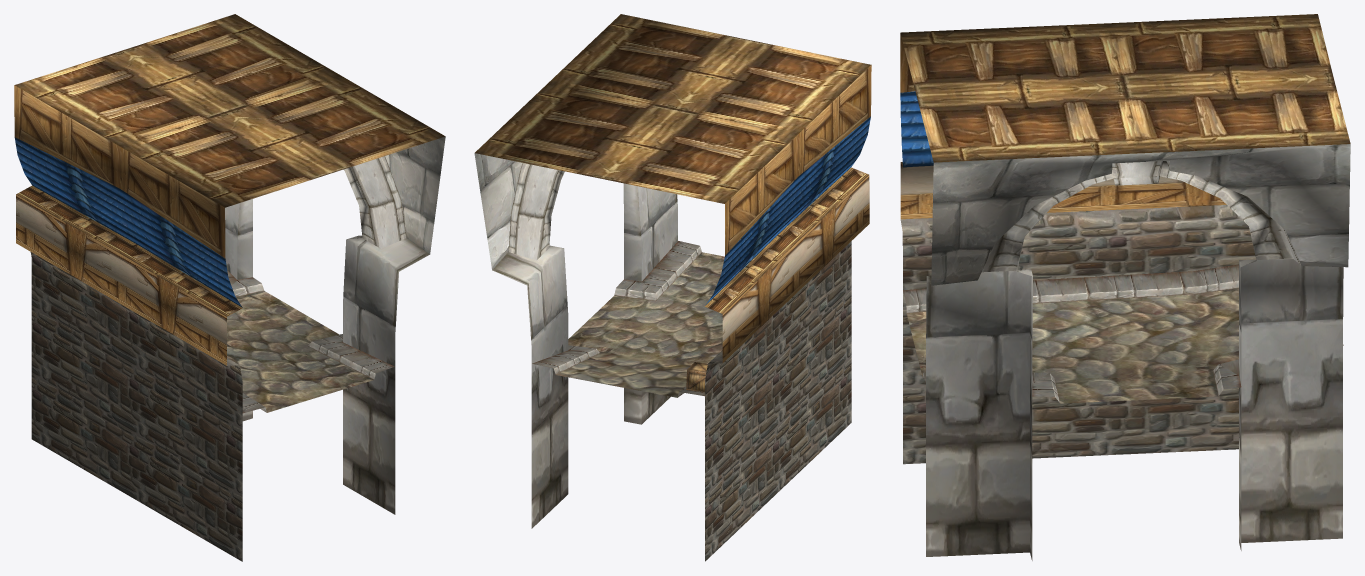
Rendered from stormwind_024.fbx.
3 renders of one model, left to right at view 1: azimuth 30°, elevation 25°; view 2: azimuth 150°, elevation 25°; view 3: azimuth 270°, elevation 25°, orthographic. The views are drawn at different scales.
Parts seen in each view (by area): view 1: stormwind_024_10, stormwind_024_3, stormwind_024_1, stormwind_024_11, stormwind_024_46, stormwind_024_8, stormwind_024_4, stormwind_024_5, stormwind_024_12; view 2: stormwind_024_10, stormwind_024_3, stormwind_024_11, stormwind_024_1, stormwind_024_46, stormwind_024_8, stormwind_024_5, stormwind_024_12, stormwind_024_4, stormwind_024_59; view 3: stormwind_024_11, stormwind_024_10, stormwind_024_3, stormwind_024_4, stormwind_024_46, stormwind_024_12, stormwind_024_5, stormwind_024_1, stormwind_024_8.
Part boxes in pixels (box(x1,y1,x2,y2)): stormwind_024_10: box(14, 14, 445, 316); stormwind_024_3: box(30, 252, 242, 561); stormwind_024_1: box(14, 85, 226, 365); stormwind_024_11: box(225, 199, 429, 514); stormwind_024_46: box(227, 291, 373, 412); stormwind_024_8: box(14, 137, 242, 307); stormwind_024_4: box(385, 136, 445, 254); stormwind_024_5: box(343, 156, 406, 248); stormwind_024_12: box(32, 270, 394, 413); stormwind_024_10: box(475, 14, 871, 313); stormwind_024_3: box(705, 241, 851, 561); stormwind_024_11: box(492, 183, 677, 528); stormwind_024_1: box(722, 65, 871, 362); stormwind_024_46: box(556, 252, 724, 397); stormwind_024_8: box(705, 116, 870, 305); stormwind_024_5: box(508, 163, 564, 260); stormwind_024_12: box(532, 241, 851, 397); stormwind_024_4: box(474, 153, 522, 269); stormwind_024_59: box(686, 362, 707, 391); stormwind_024_11: box(926, 258, 1343, 560); stormwind_024_10: box(900, 14, 1350, 166); stormwind_024_3: box(900, 205, 1256, 464); stormwind_024_4: box(931, 144, 1350, 285); stormwind_024_46: box(906, 288, 1238, 403); stormwind_024_12: box(903, 264, 1343, 402); stormwind_024_5: box(982, 161, 1301, 272); stormwind_024_1: box(900, 33, 1226, 219); stormwind_024_8: box(900, 91, 933, 167).
Size of the model in its own units: 14.81 by 19.23 by 18.45.
